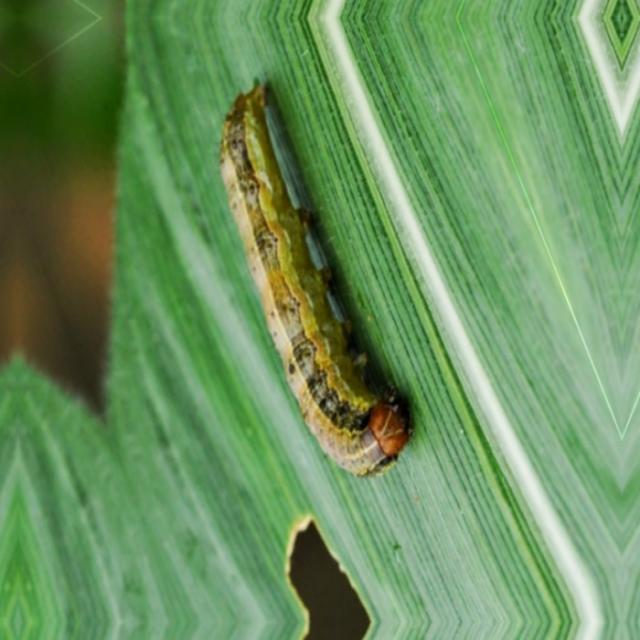armyworm: (218, 78, 414, 479)
